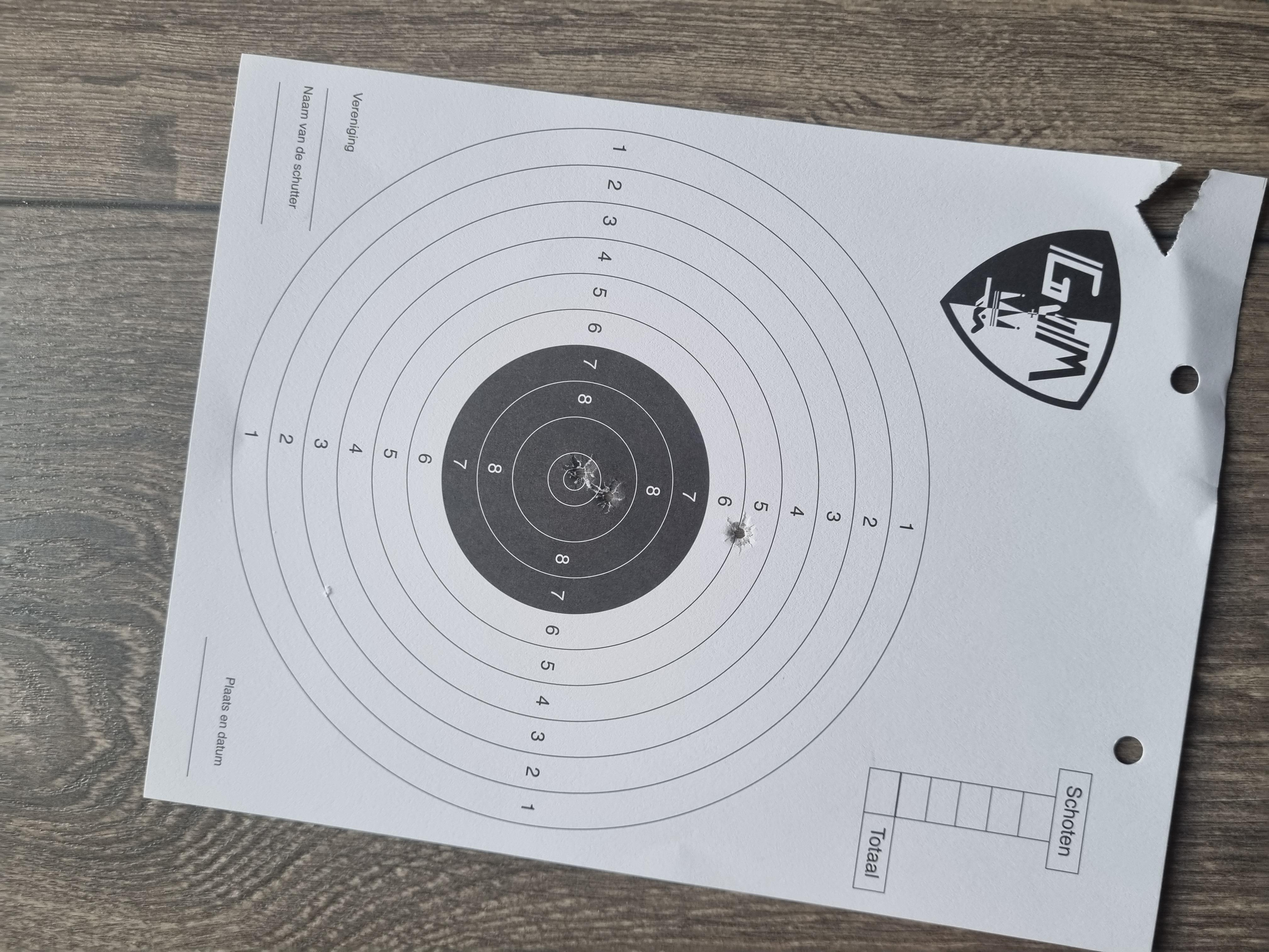hole: (536, 540, 583, 568), (625, 424, 666, 449), (588, 444, 628, 466)
